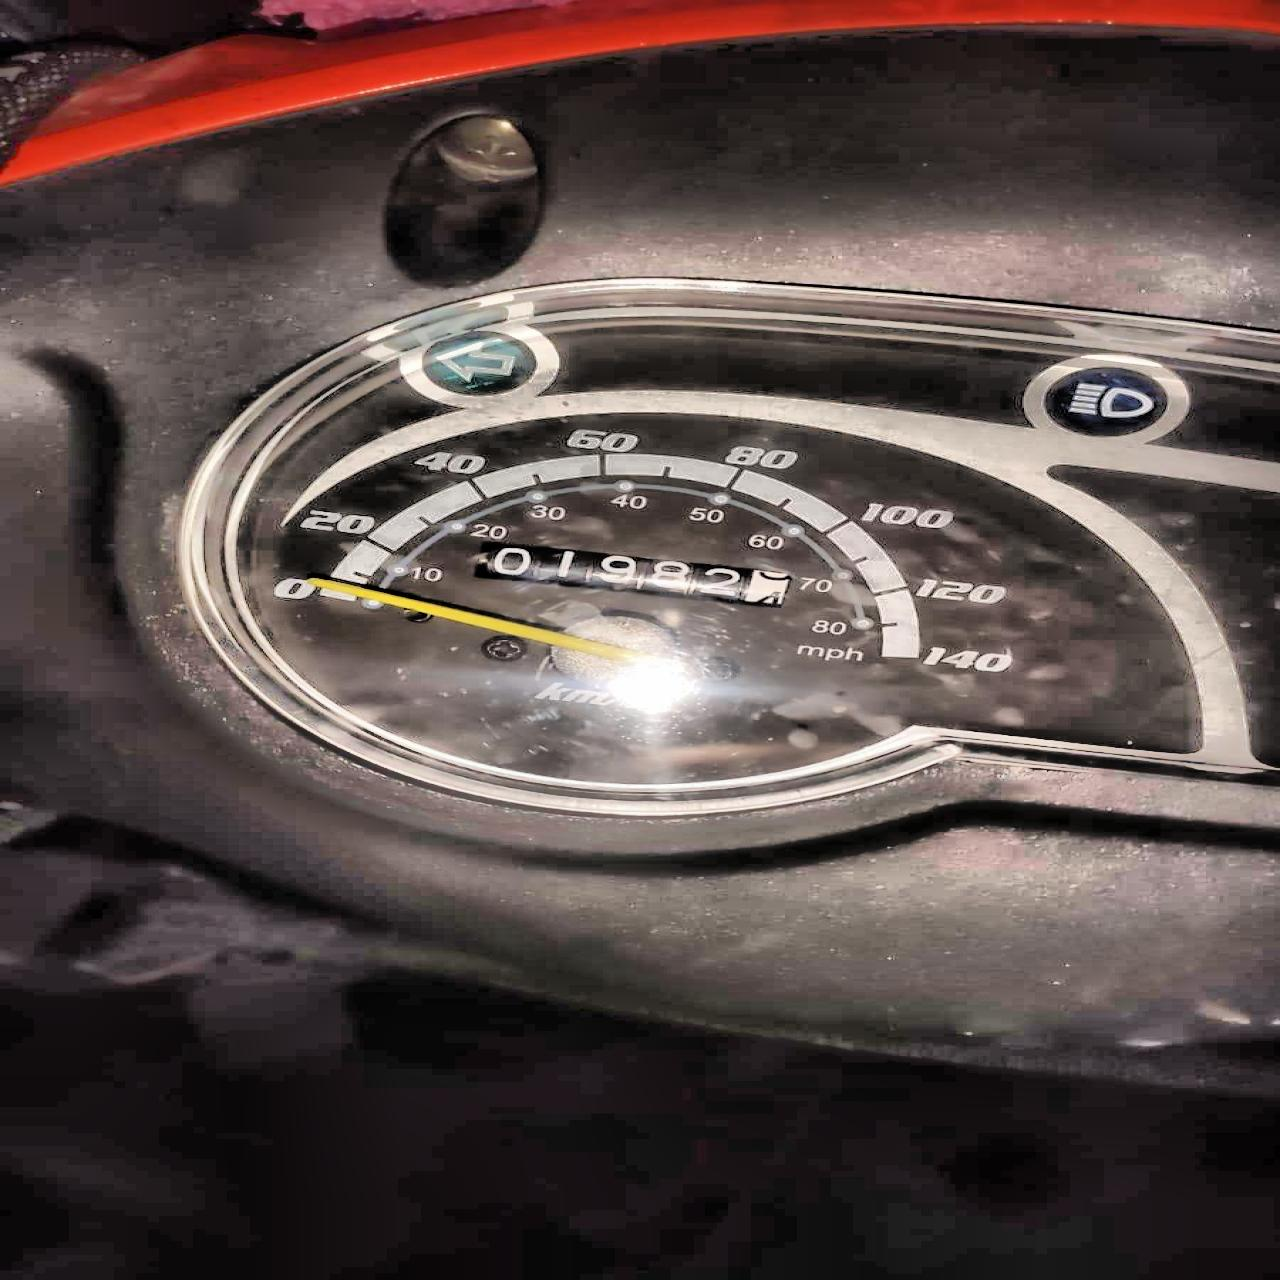0: (488, 545, 533, 579)
1: (549, 546, 576, 586)
2: (696, 565, 740, 595)
4: (744, 586, 788, 612)
8: (645, 558, 688, 587)
9: (593, 550, 635, 585)
odometer: (459, 544, 797, 618)
